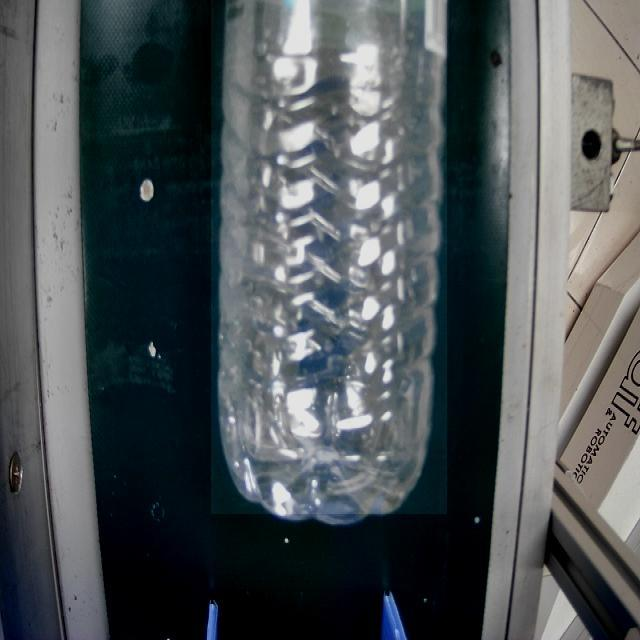Pet_Bottle: (211, 0, 447, 514)
